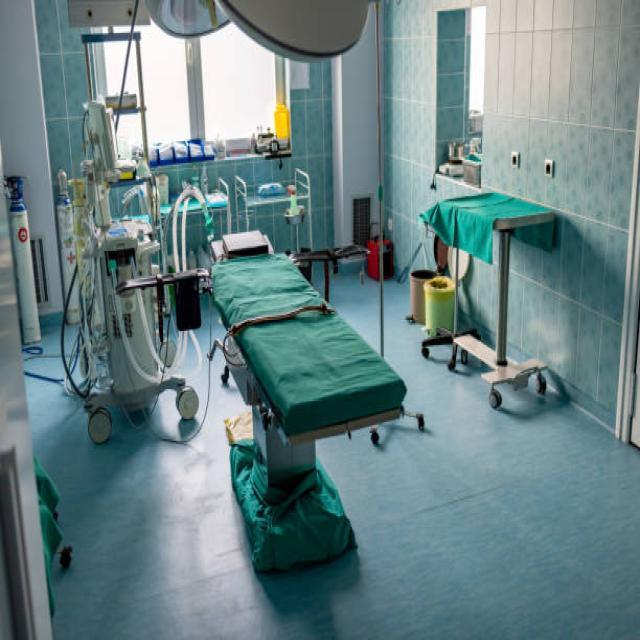bed: (198, 206, 419, 596)
bin: (408, 250, 462, 362)
tools_table: (426, 168, 578, 414)
